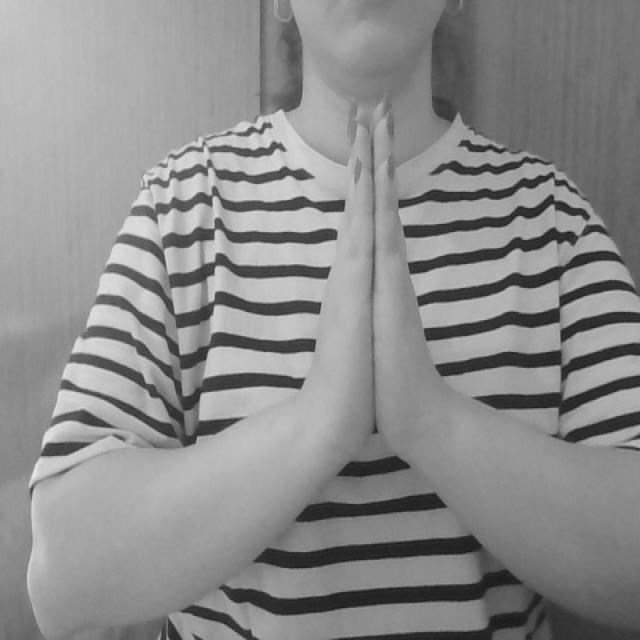Ozur-Dilemek: (290, 81, 455, 503)
